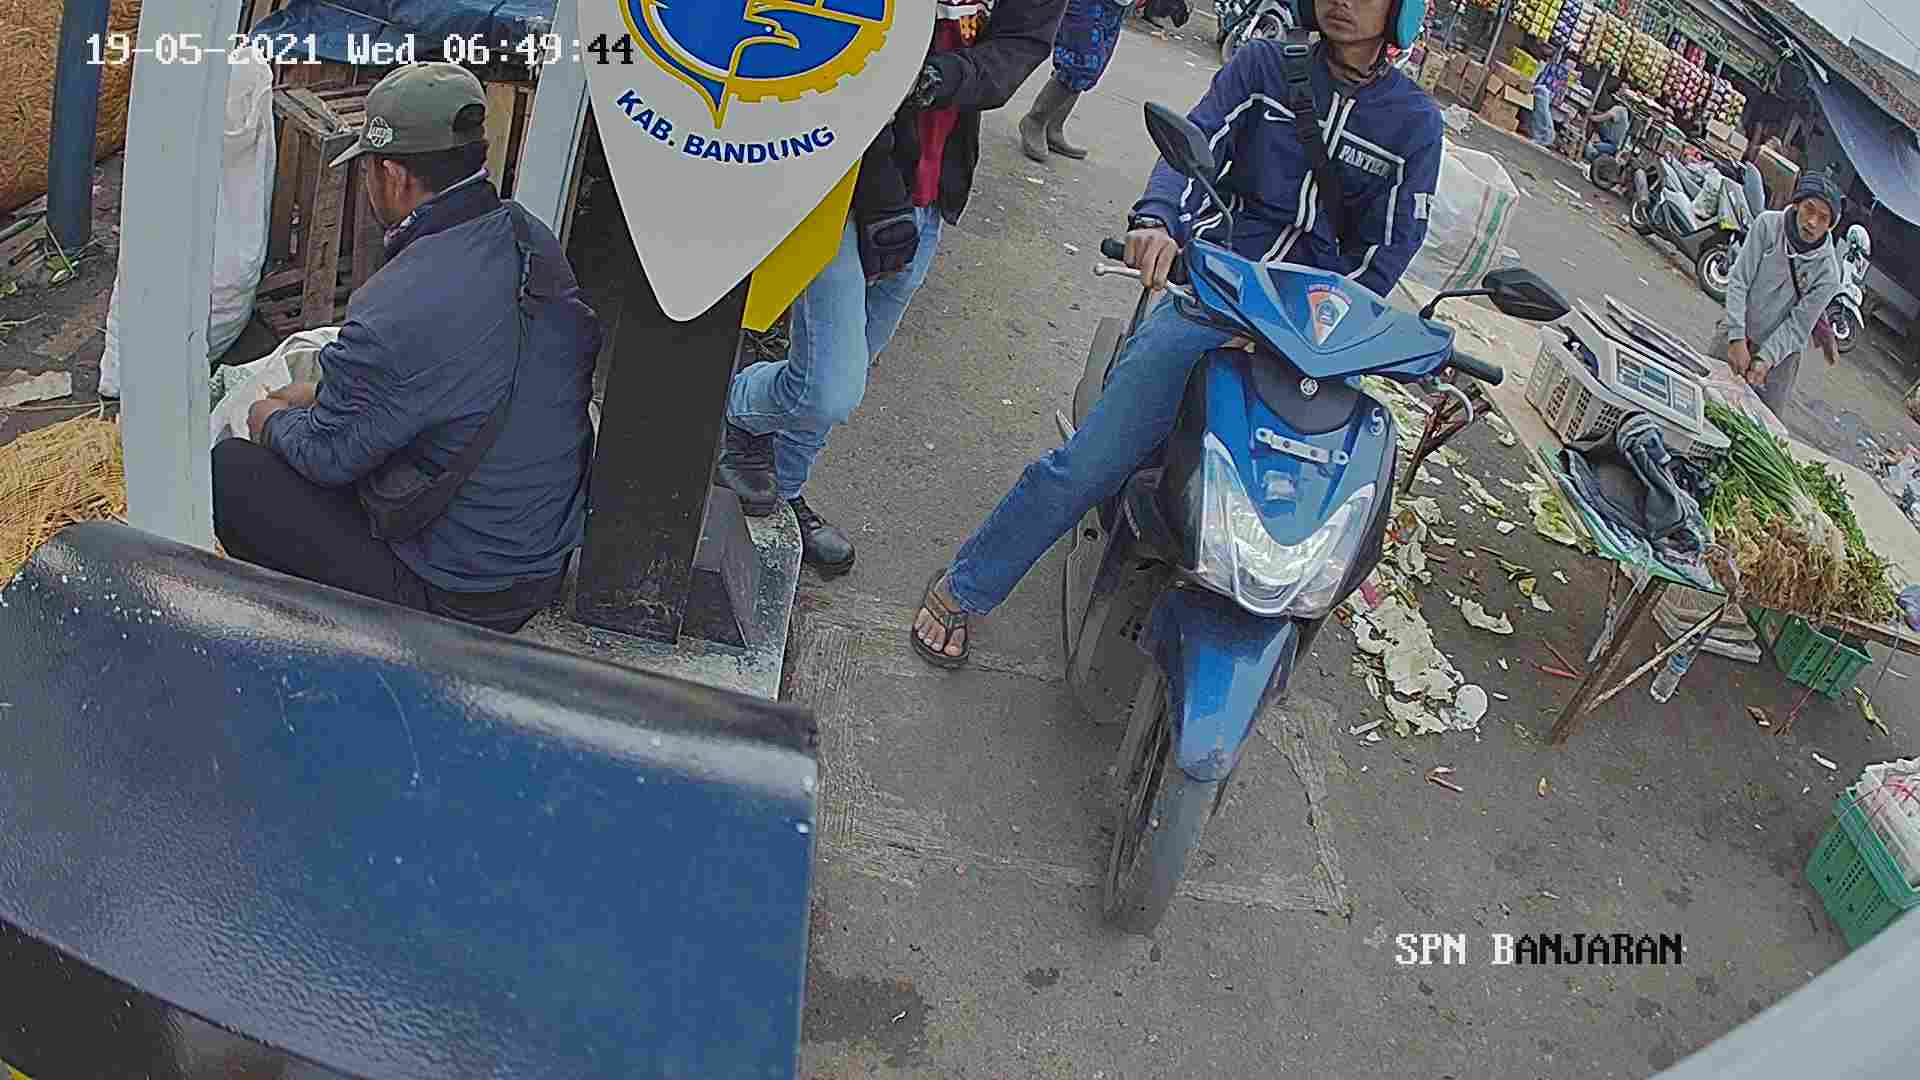motor: (1092, 239, 1381, 928)
